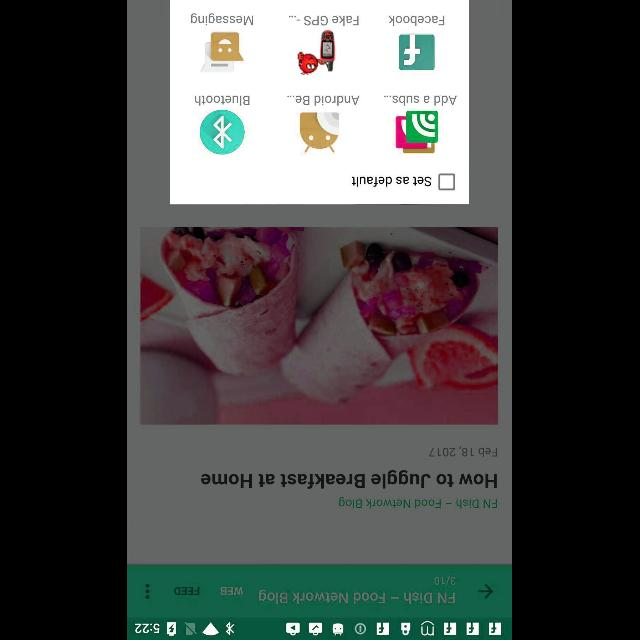checkbox: (439, 173, 456, 190)
icon: (200, 110, 246, 154), (400, 34, 436, 70), (478, 583, 494, 599), (146, 583, 150, 599)
image: (140, 228, 498, 424), (396, 112, 439, 154), (200, 32, 244, 72), (300, 113, 340, 153), (299, 31, 335, 75)
panel: (170, 0, 470, 204)
text: (202, 469, 498, 488), (260, 588, 456, 604), (340, 497, 498, 508), (352, 176, 432, 188), (192, 13, 254, 25), (384, 95, 458, 105), (288, 96, 360, 106), (288, 16, 360, 26), (430, 446, 498, 456), (389, 16, 445, 26), (196, 95, 250, 105), (222, 586, 244, 596), (176, 586, 200, 594), (436, 576, 456, 584)
uppertaskbar: (128, 617, 512, 639)
